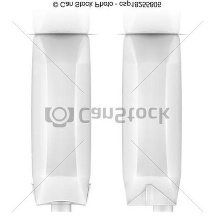carton: (28, 31, 93, 215), (120, 28, 184, 211)
